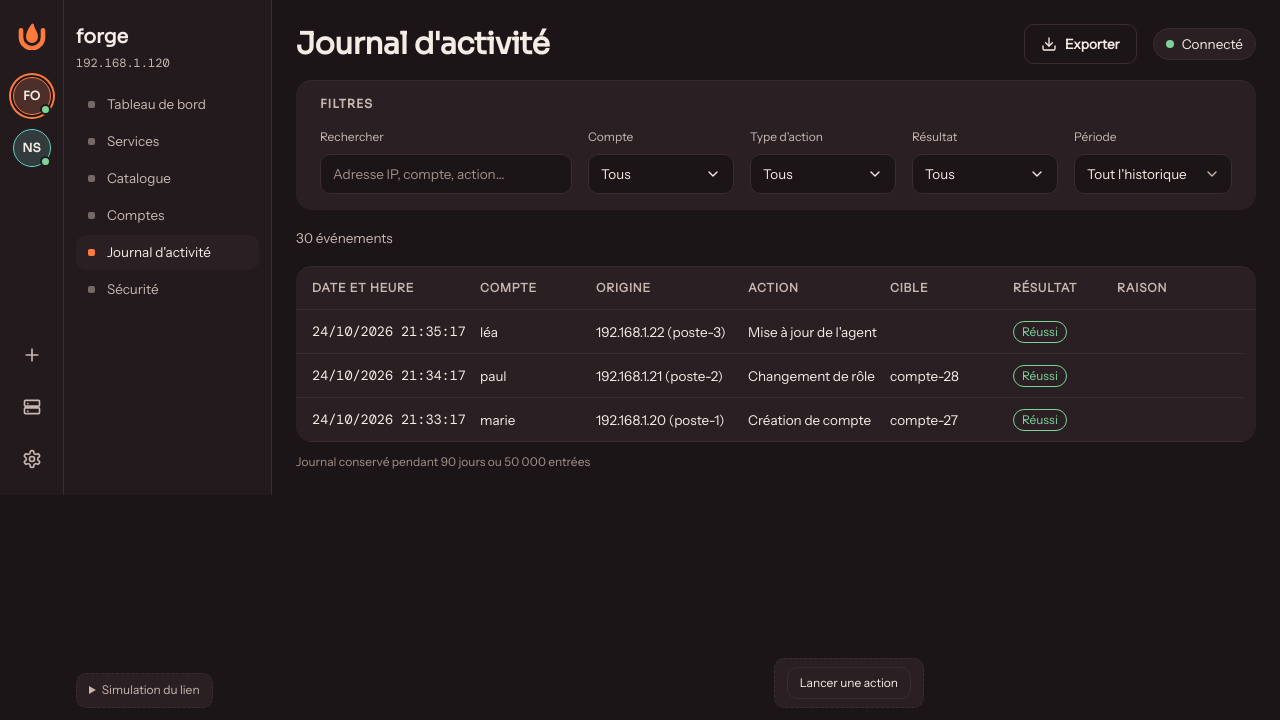
Scenario: page Journal d'activité › filtre actif et entrée en direct : l'agent décide (une relecture), l'entrée hors filtre n'apparaît pas
Type "léa" into the search field labelled "Rechercher". click: (446, 174)
box: left=321, top=155, right=571, bottom=194
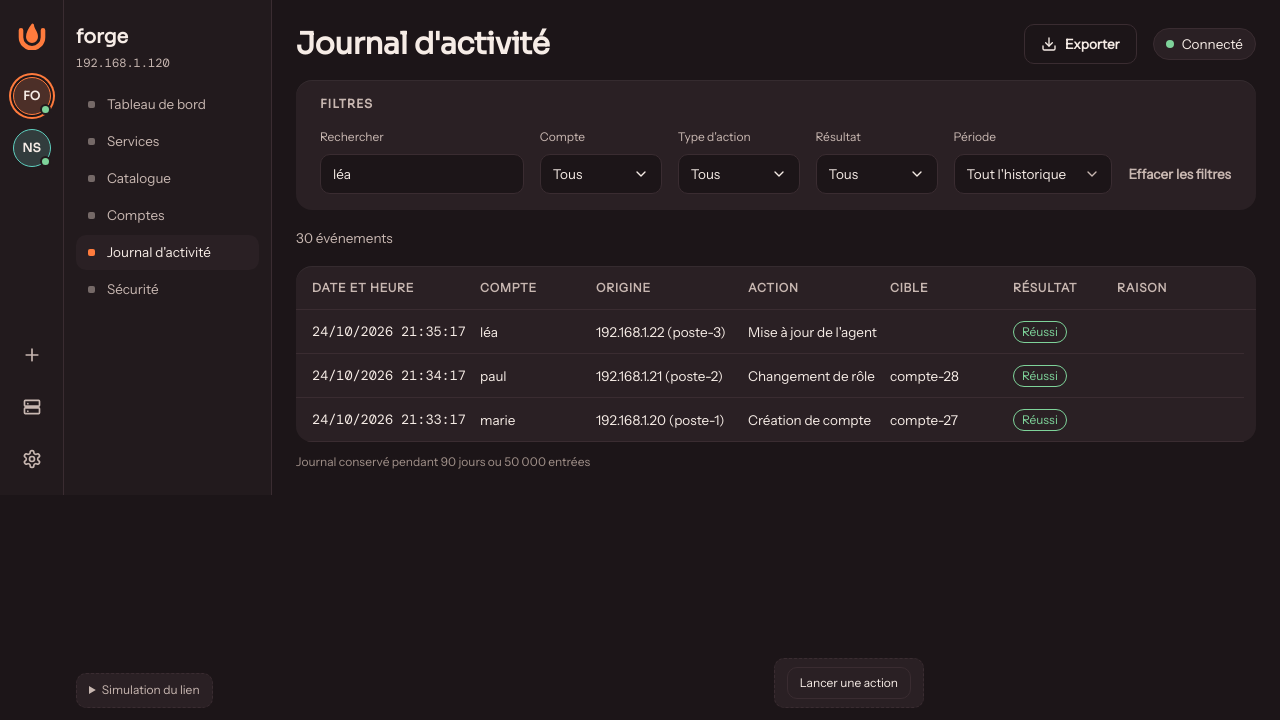
Submit the form, box left=296, top=80, right=1256, bottom=210
Wait 350 ms
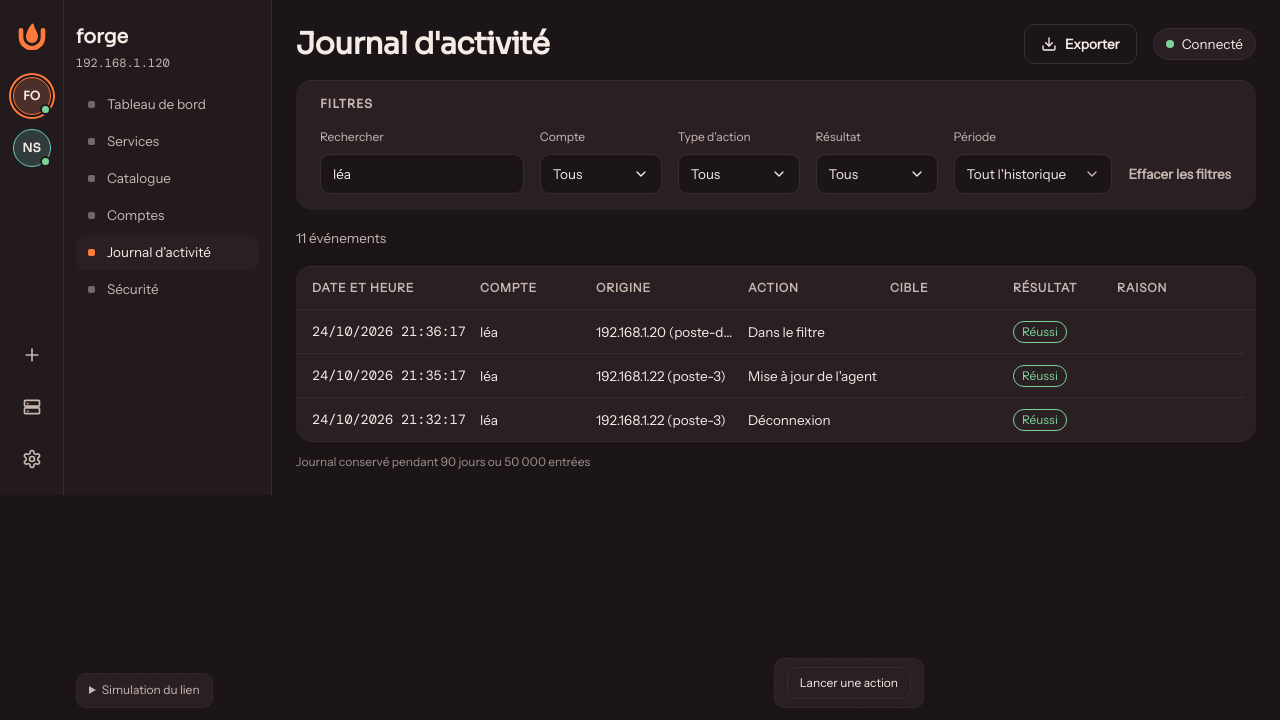
Expected: the text "Dans le filtre" is shown, left=748, top=324, right=825, bottom=340
